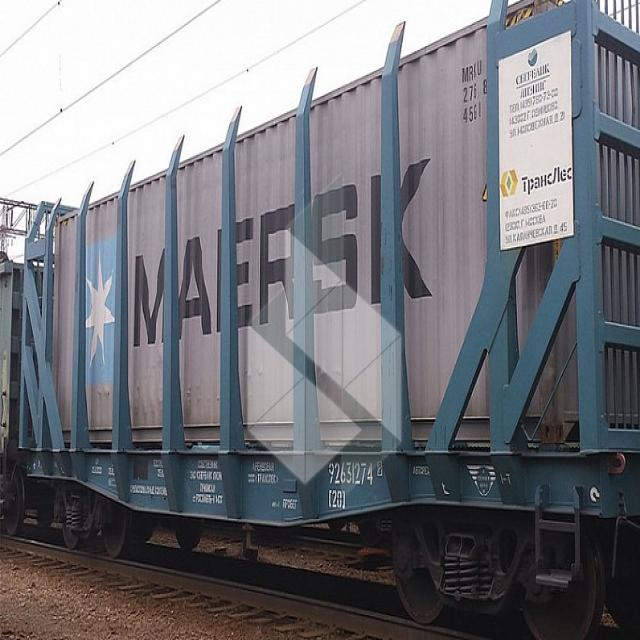container: (42, 0, 563, 440)
flatcar_bulkhead: (13, 0, 640, 640)
